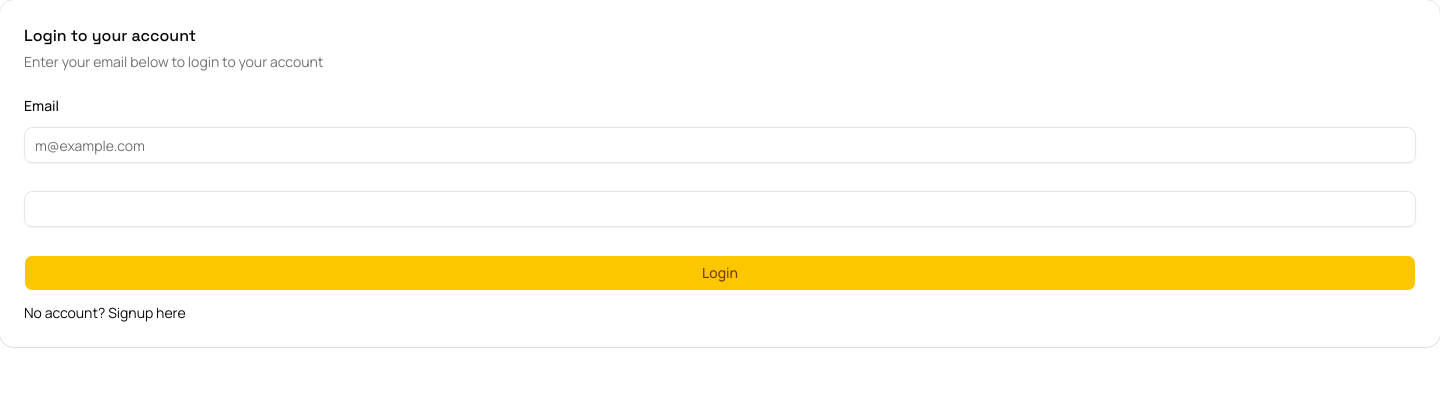
Test: shows an error when login fails
Type "user@example.com" into the field labelled "Email" at (720, 145), box [24,127,1416,163]
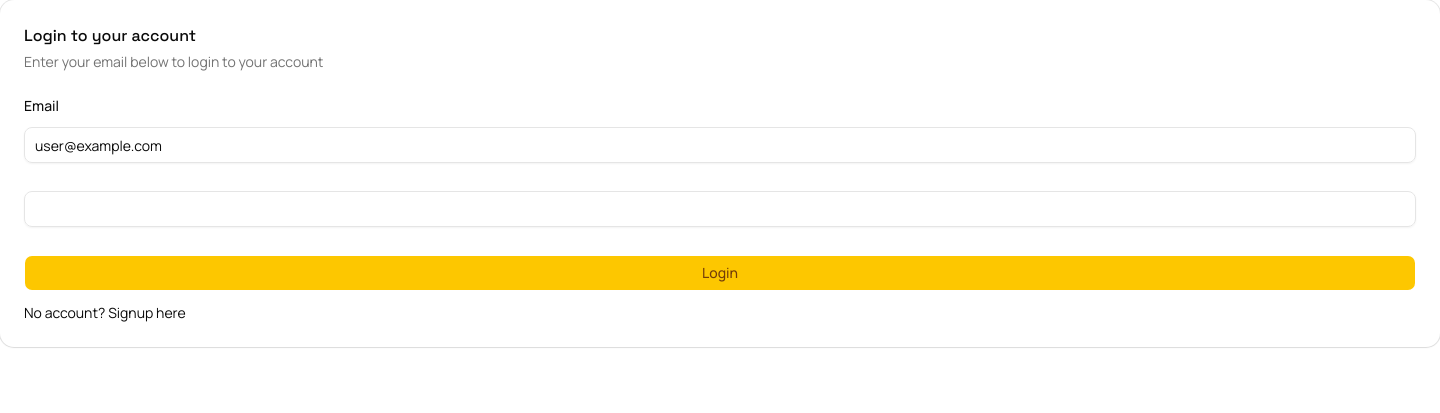
Type "wrong-password" into the password field at (720, 209), box [24,191,1416,227]
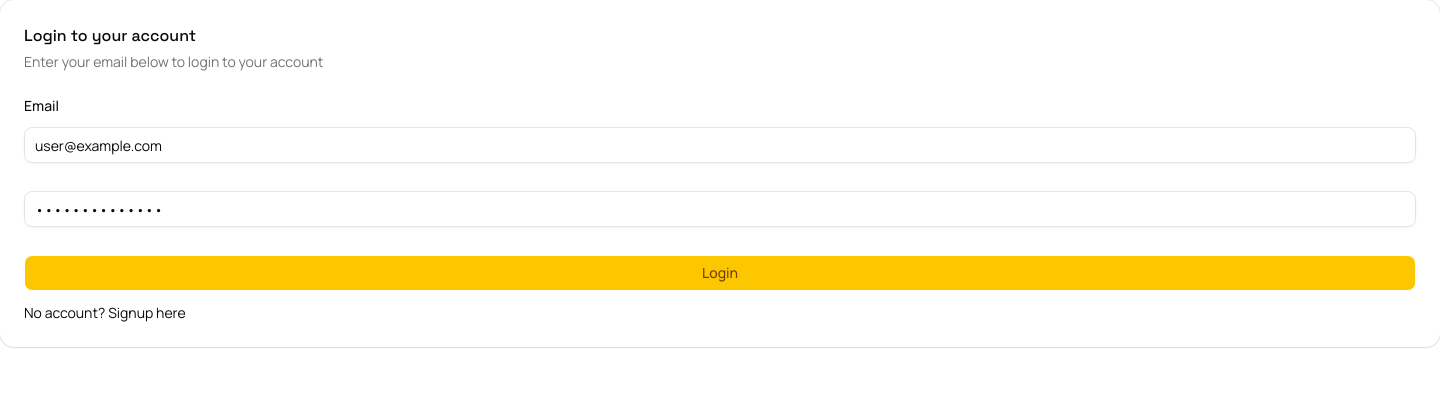
Click the button "Login" at (720, 273), box [24,255,1416,291]
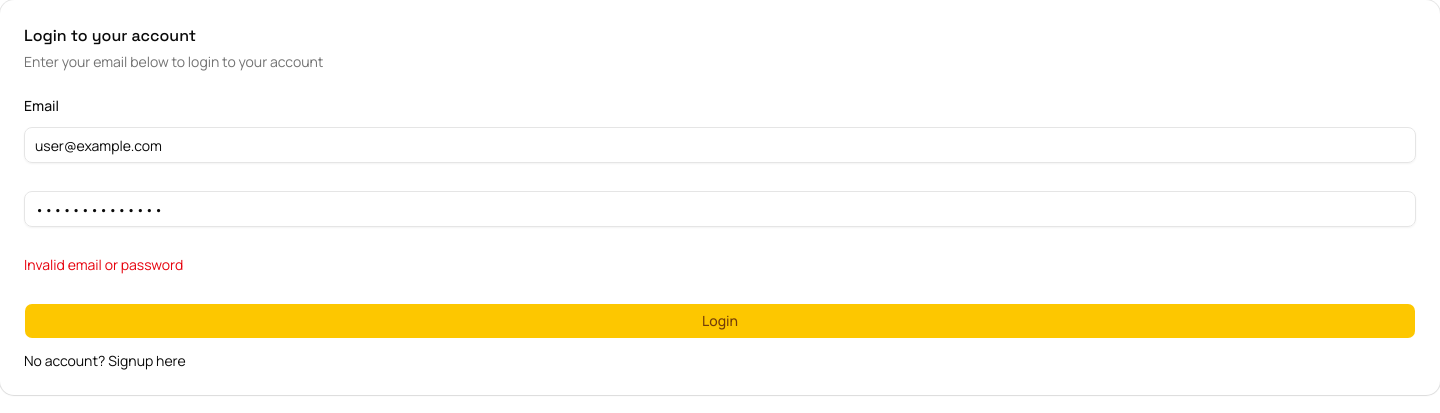
expect the text "Invalid email or password" is shown: met, box [24,255,183,274]
